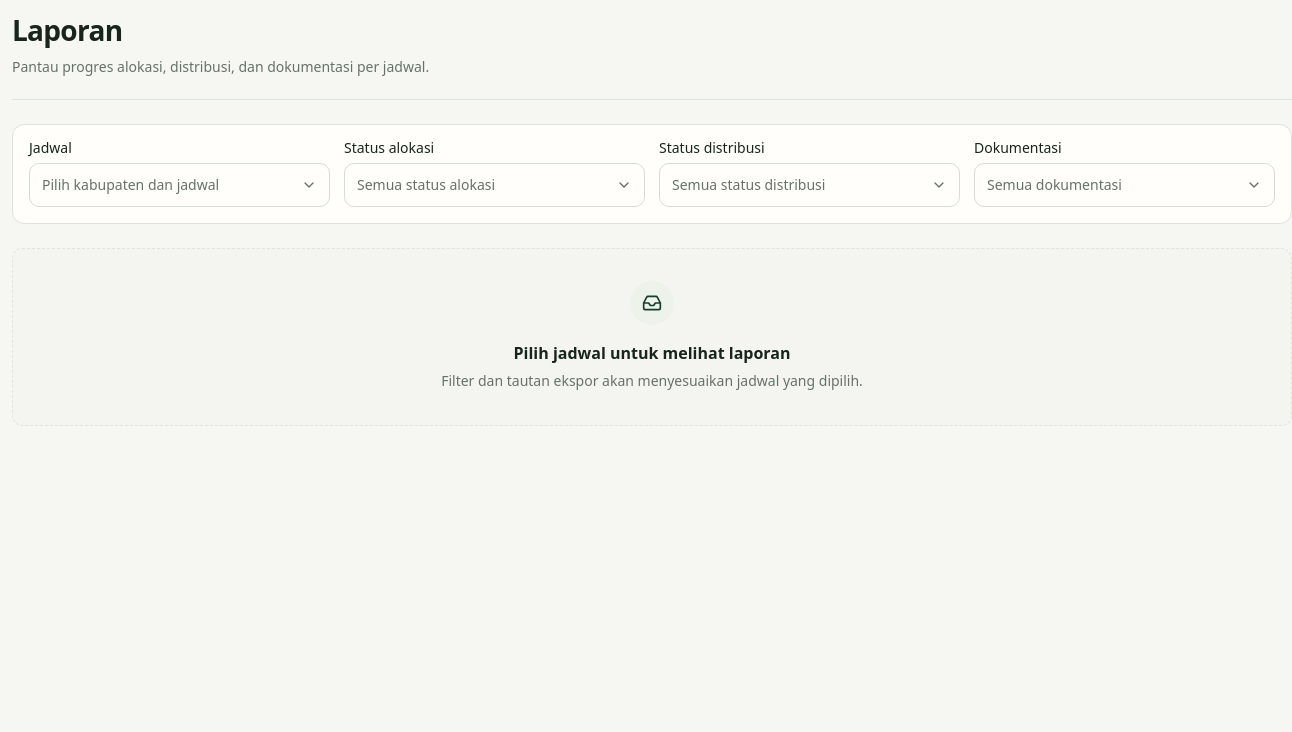
it: loads summary and rows for the selected schedule with full NIK
Click the dropdown labelled "jadwal" at (180, 185), box [29,163,330,207]
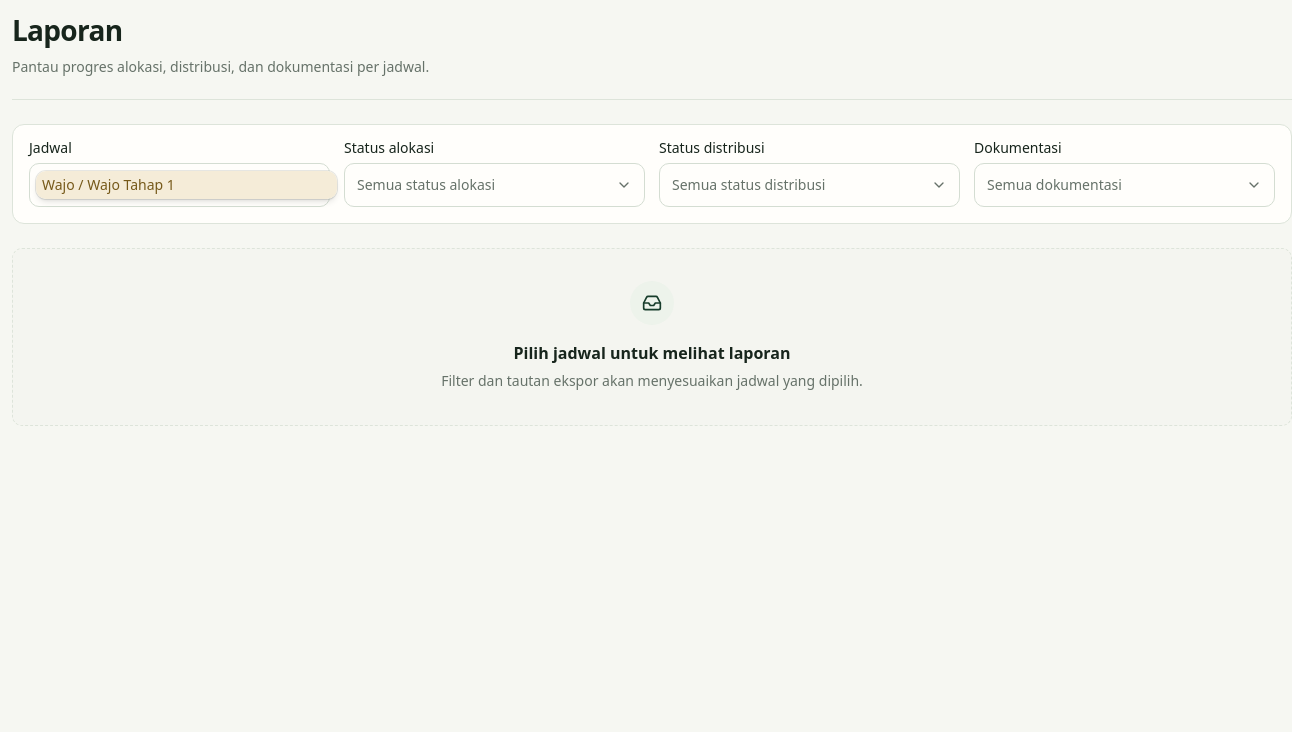
Click the option "Wajo / Wajo Tahap 1" at (58, 185), box [36,171,337,199]
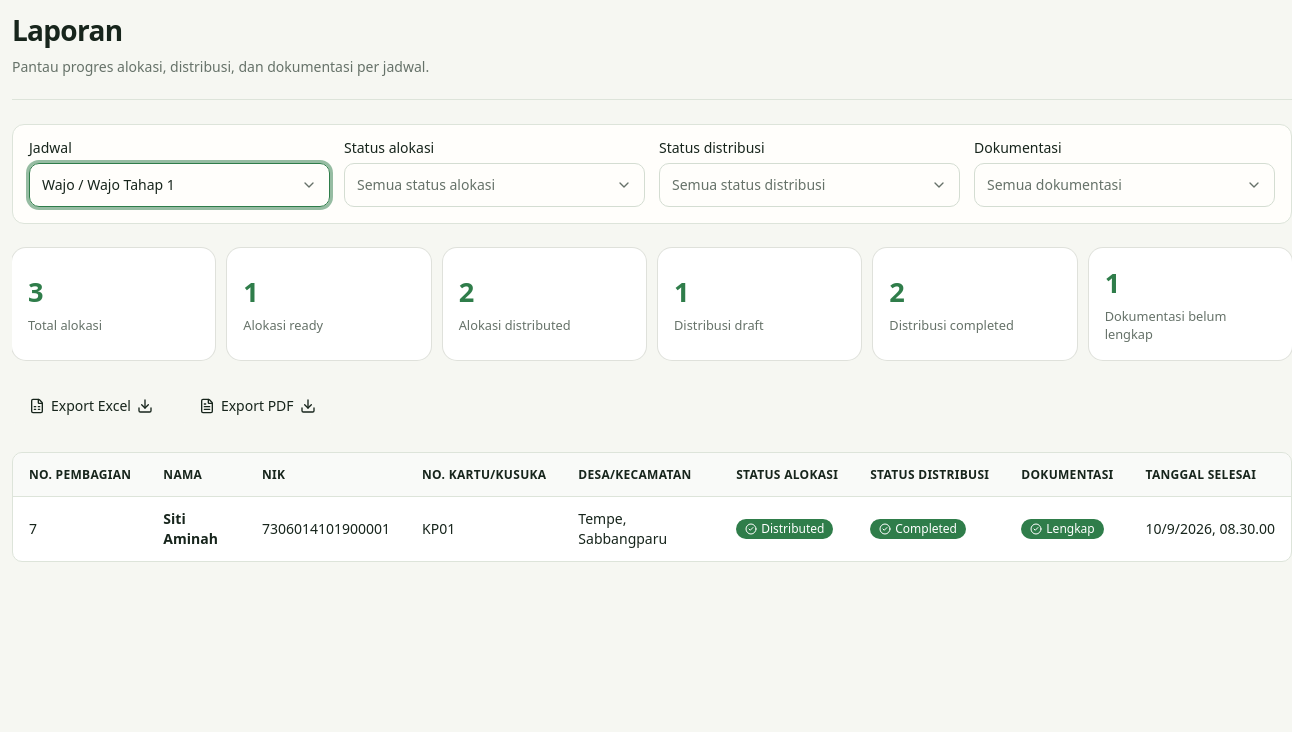
Expected: the text "3" is shown, [28,274,44,310]
Expected: the text "Siti Aminah" is shown, [163,509,218,548]
Expected: the text "7306014101900001" is shown, [246,497,406,561]
